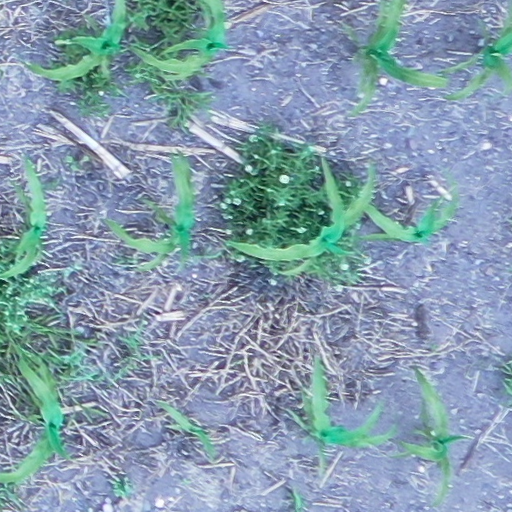planta: (225, 154, 375, 261), (102, 147, 198, 272), (395, 362, 472, 509), (288, 353, 399, 449), (350, 177, 460, 244), (153, 399, 215, 464)
